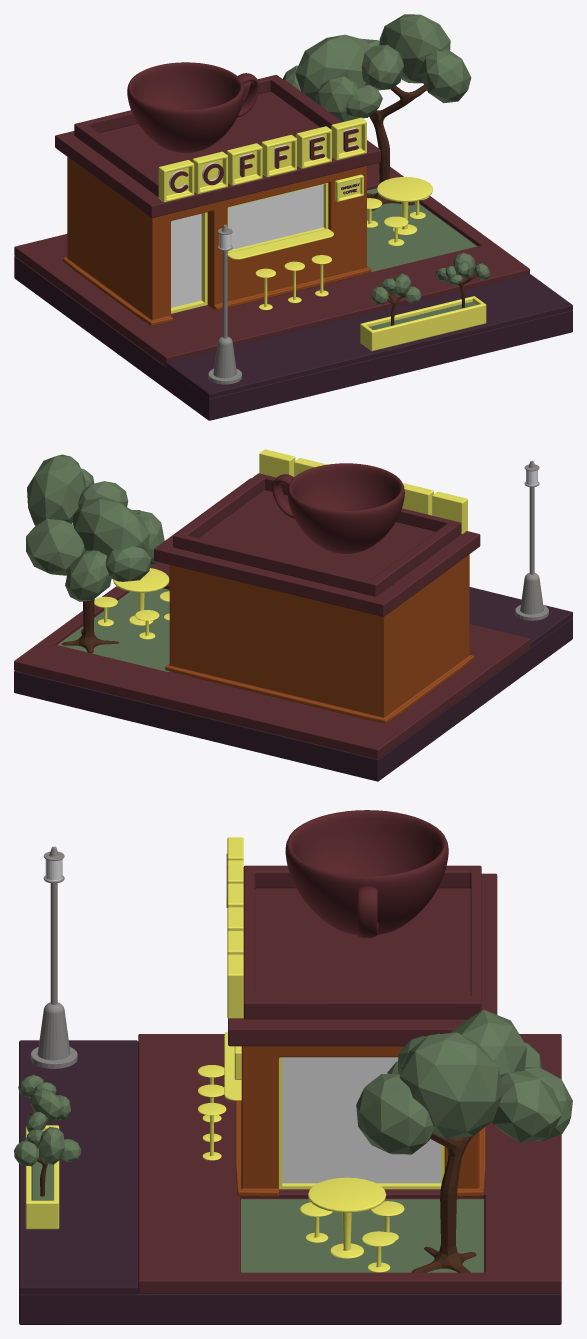
Rendered from cafe.fbx.
3 renders of one model, top to bottom at view 1: azimuth 30°, elevation 25°; view 2: azimuth 150°, elevation 25°; view 3: azimuth 270°, elevation 25°, orthographic. The views are drawn at different scales.
Parts seen in each view (by area): view 1: Plane.010, vereda, calle, base, techo, Circle, techo.001, Plane.008, Icosphere.008, Icosphere.002, Icosphere.001, Circle.003 (+16 smaller); view 2: Plane.010, vereda, techo, base, Circle, techo.001, calle, Icosphere.008, Icosphere.002, Icosphere.006, Circle.003, Icosphere.007 (+9 smaller); view 3: vereda, techo, calle, Plane.010, base, Circle, techo.001, Icosphere.002, Icosphere.001, Icosphere.006, Circle.003, Plane.011 (+12 smaller).
Boxes of the visible parts, x1,y1,x2,y2 form: Plane.010: (63,157,371,325); vereda: (14,163,529,366); calle: (14,256,572,398); base: (14,257,572,420); techo: (55,79,380,217); Circle: (127,62,244,152); techo.001: (74,75,341,197); Plane.008: (360,296,486,351); Icosphere.008: (295,34,371,101); Icosphere.002: (379,14,450,83); Icosphere.001: (419,48,471,103); Circle.003: (208,224,241,384); Plane.010: (165,554,473,723); vereda: (14,562,529,758); techo: (154,478,480,616); base: (14,617,572,781); Circle: (287,463,404,553); techo.001: (173,473,461,596); calle: (40,587,572,759); Icosphere.008: (72,497,149,555); Icosphere.002: (27,454,85,525); Icosphere.006: (26,519,84,575); Circle.003: (515,460,548,620); Icosphere.007: (65,550,111,601); vereda: (138,1034,561,1293); techo: (228,873,497,1046); calle: (19,1040,146,1294); Plane.010: (235,1046,485,1196); base: (19,1292,561,1324); Circle: (285,810,448,935); techo.001: (243,865,481,1019); Icosphere.002: (399,1032,502,1138); Icosphere.001: (356,1074,434,1154); Icosphere.006: (491,1070,561,1142); Circle.003: (30,846,77,1068); Plane.011: (412,1133,476,1272).
Bounding box in the file's own units: 934 × 495 × 824.
